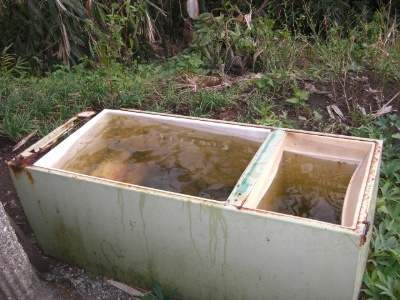box: (6, 108, 383, 300)
